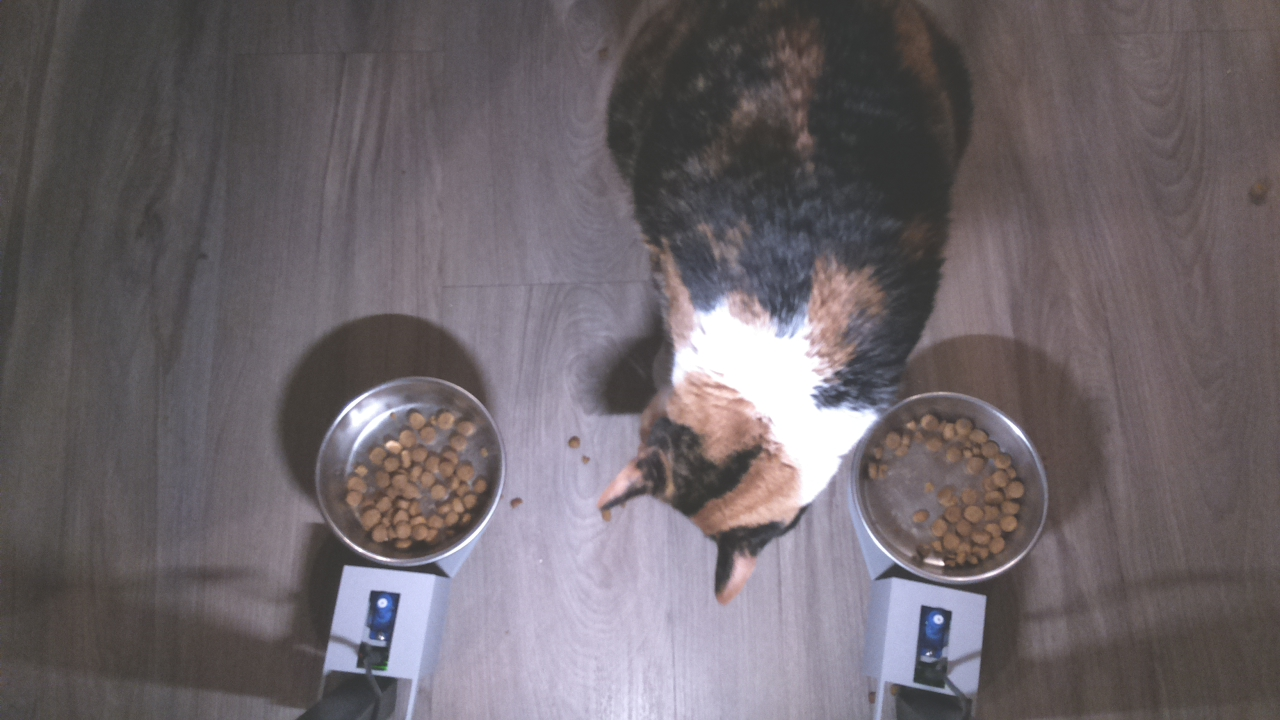bella: (592, 311, 849, 628)
open_bowl: (850, 389, 1049, 587), (311, 372, 508, 572)
